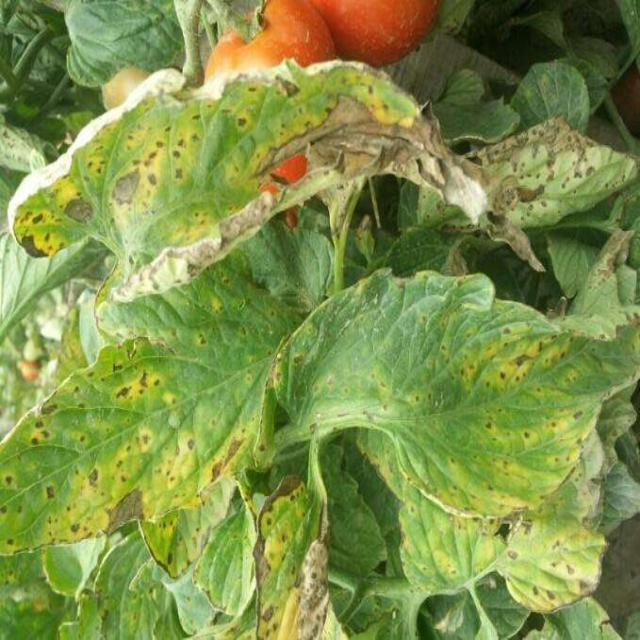Early_blight: (254, 92, 635, 272), (110, 189, 284, 303), (250, 474, 332, 640), (531, 573, 601, 614), (479, 499, 533, 547), (15, 208, 62, 258), (100, 487, 147, 532), (207, 431, 244, 484), (106, 367, 160, 403), (103, 166, 143, 210), (62, 192, 97, 224), (84, 464, 101, 489), (512, 350, 533, 368), (44, 477, 59, 502)
